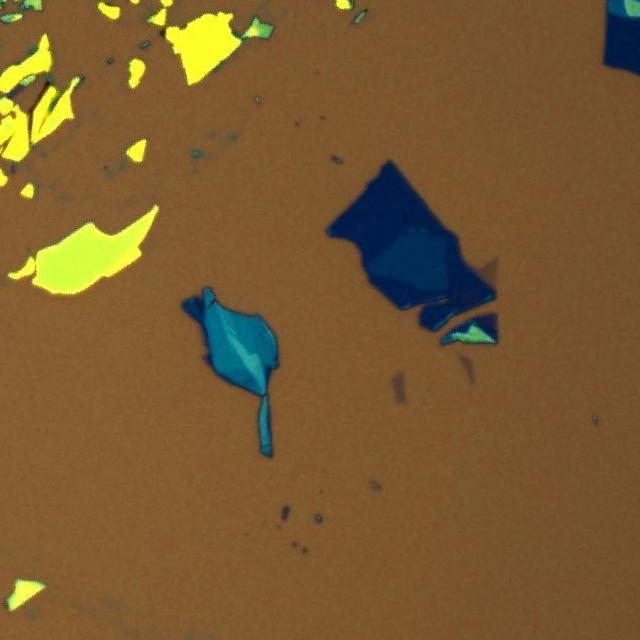monolayer-eWW4: (476, 252, 499, 290), (456, 352, 476, 382), (390, 371, 408, 404)
